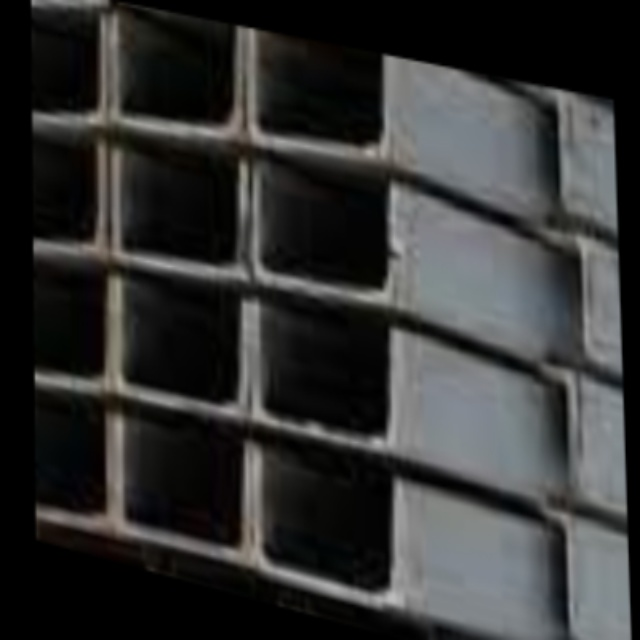Shveller: (255, 451, 401, 608), (252, 303, 398, 450), (252, 160, 396, 307), (112, 138, 247, 288), (248, 28, 390, 170), (118, 276, 250, 421), (121, 414, 251, 561), (115, 12, 242, 141), (33, 264, 114, 398), (32, 131, 105, 270), (35, 400, 111, 530), (31, 13, 107, 140)
